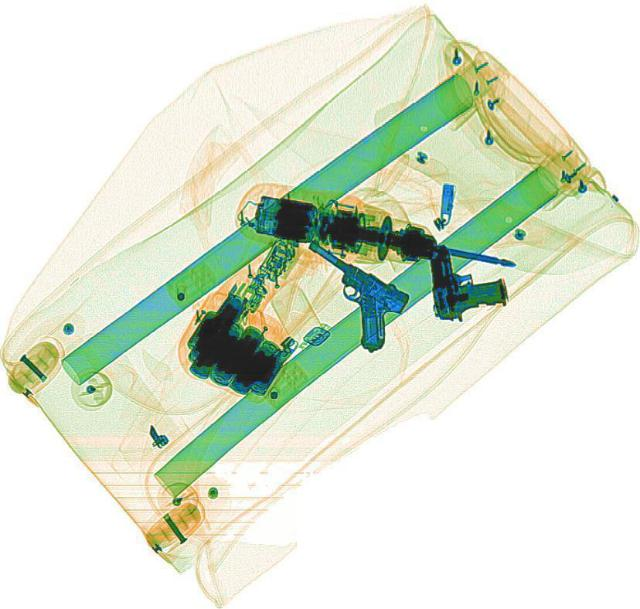Gun: (270, 234, 420, 353), (422, 236, 510, 321)
